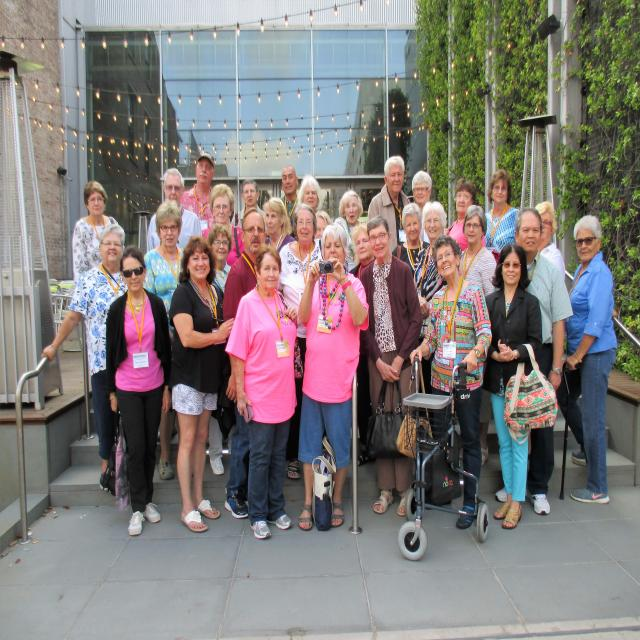body: (408, 234, 492, 529), (40, 222, 129, 495), (296, 222, 371, 532), (225, 243, 298, 541), (169, 234, 237, 532), (358, 214, 424, 517), (105, 244, 173, 536), (553, 212, 619, 505), (513, 204, 572, 516), (483, 243, 544, 530), (136, 198, 188, 482), (222, 206, 267, 518), (276, 202, 325, 481), (414, 201, 453, 457), (346, 225, 376, 466), (146, 166, 204, 257), (72, 179, 118, 283), (367, 154, 413, 257), (458, 204, 500, 297), (482, 168, 522, 255), (180, 151, 217, 240), (444, 177, 486, 255), (390, 202, 431, 280), (333, 189, 367, 275), (534, 200, 567, 282), (201, 183, 242, 248), (206, 222, 234, 295), (230, 178, 267, 232), (262, 197, 296, 254), (411, 170, 433, 242), (279, 165, 299, 241), (296, 173, 325, 215), (314, 210, 332, 239)
